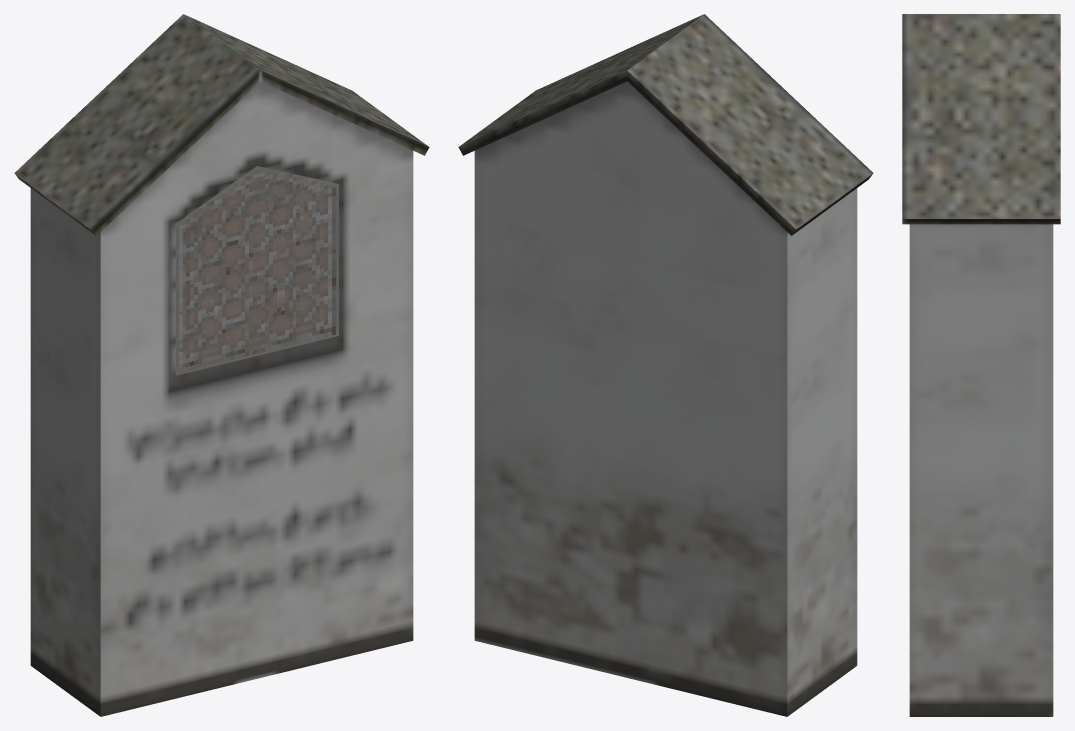
File: PrayerStone01.obj
3 views of the same model, side by side, from view 1: azimuth 30°, elevation 25°; view 2: azimuth 150°, elevation 25°; view 3: azimuth 270°, elevation 25° (orthographic). The views are drawn at different scales.
Parts seen in each view (by area): view 1: PrayerStone01, PrayerStone01Glas; view 2: PrayerStone01; view 3: PrayerStone01.
Part boxes in pixels (bbox=[...]): PrayerStone01: bbox=[14, 14, 429, 716]; PrayerStone01Glas: bbox=[175, 166, 338, 375]; PrayerStone01: bbox=[458, 14, 873, 716]; PrayerStone01: bbox=[902, 14, 1060, 716].
Size of the model in its own units: 1.95 by 3.36 by 0.77.
